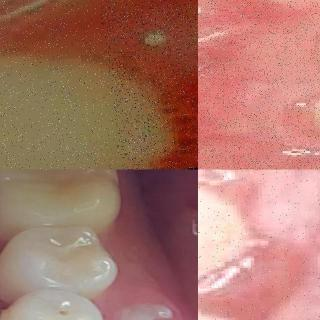Gum Swelling: (66, 0, 198, 170), (198, 170, 320, 312), (229, 0, 320, 170)
maligned: (109, 276, 180, 320)
plaque: (198, 189, 252, 283)
